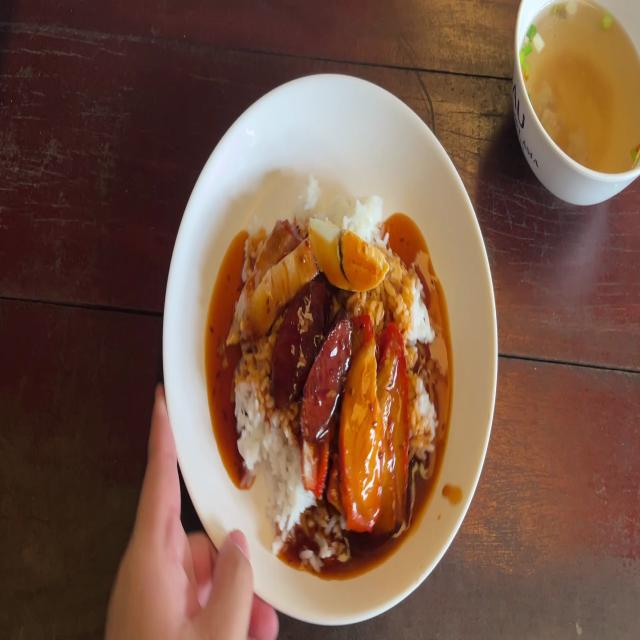01boiled_egg: (313, 220, 387, 287)
01chainese_sausage: (271, 285, 349, 435)
01crispy_pork: (226, 221, 312, 341)
01red_pork: (344, 320, 404, 515)
01red_pork_and_crispy_pork: (236, 166, 444, 566)
01rice: (238, 354, 274, 468), (265, 433, 301, 536), (393, 262, 424, 339)
